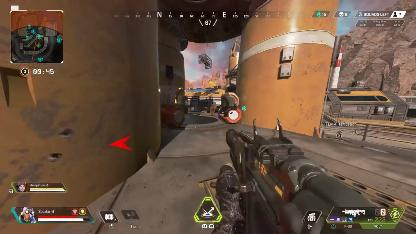Target: (209, 103, 215, 115)
